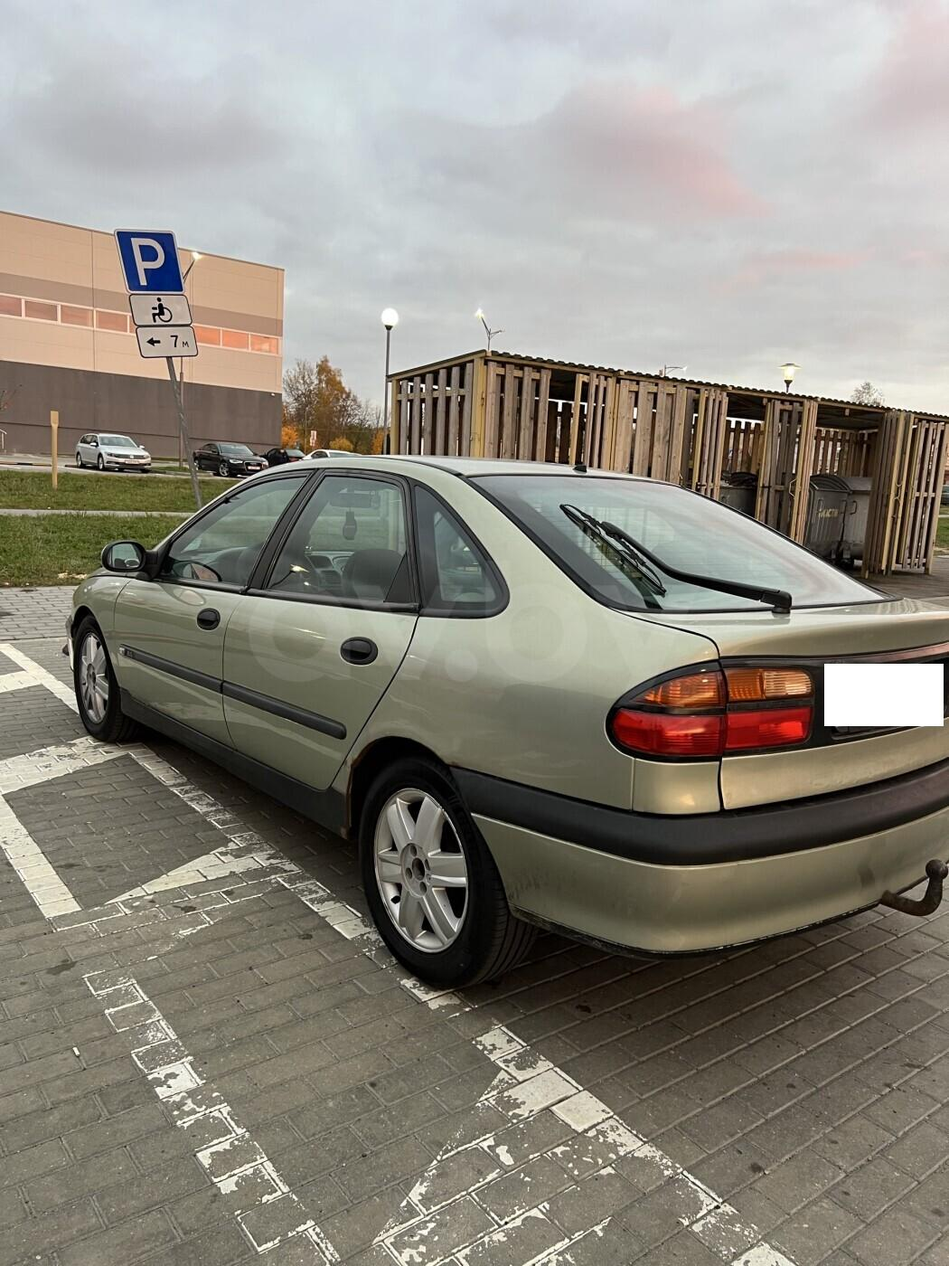Laguna_1998-2001: (60, 445, 949, 977)
